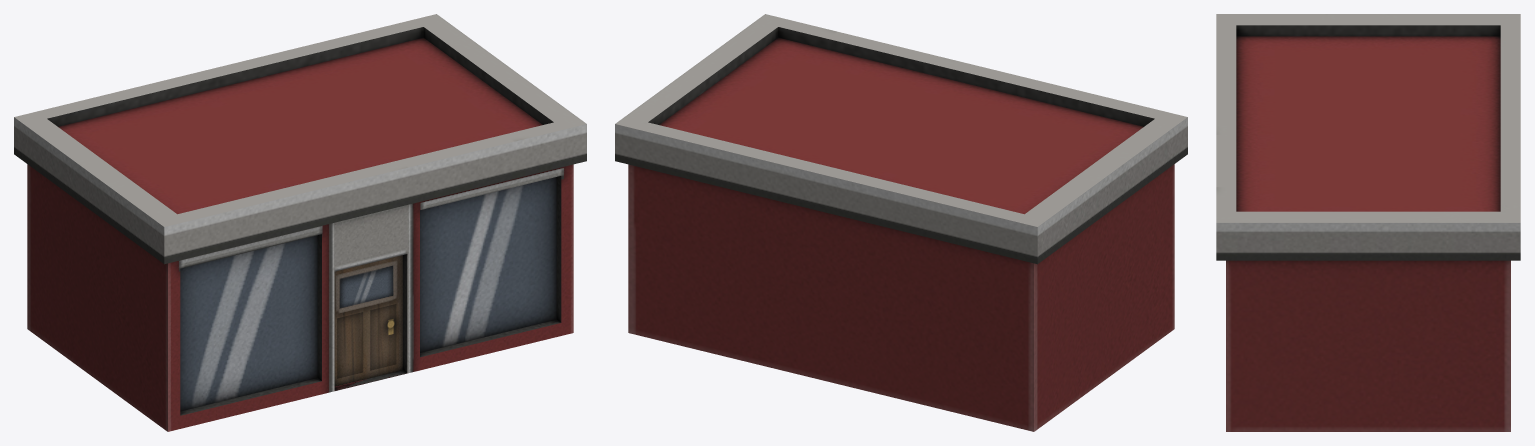
The model's file is House_2WindowsDoor.FBX.
3 renders of one model, left to right at view 1: azimuth 30°, elevation 25°; view 2: azimuth 150°, elevation 25°; view 3: azimuth 270°, elevation 25°, orthographic.
Parts seen in each view (by area): view 1: Window_Door; view 2: Window_Door; view 3: Window_Door.
Part boxes in pixels (x1=…): Window_Door: x1=14, y1=14, x2=586, y2=431; Window_Door: x1=615, y1=14, x2=1187, y2=431; Window_Door: x1=1216, y1=14, x2=1520, y2=431.
Bounding box in the file's own units: 521 × 248 × 321.
